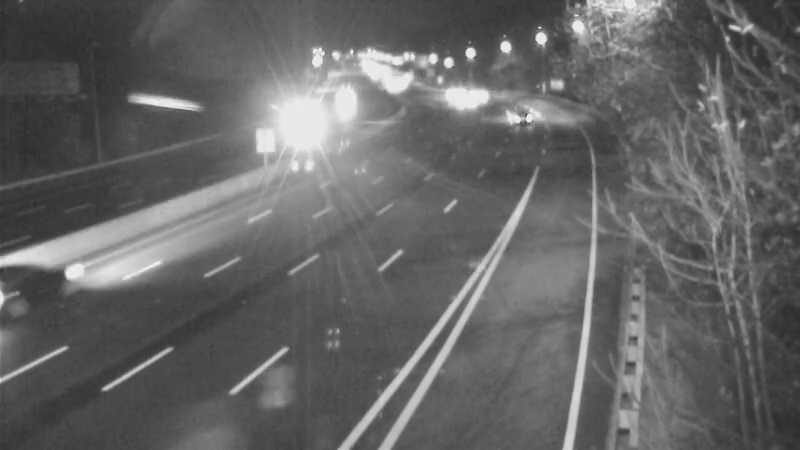vehicle: (1, 243, 73, 323), (422, 70, 472, 120), (451, 68, 501, 118), (434, 75, 484, 125), (496, 93, 546, 143), (270, 100, 320, 150), (321, 77, 371, 127)
